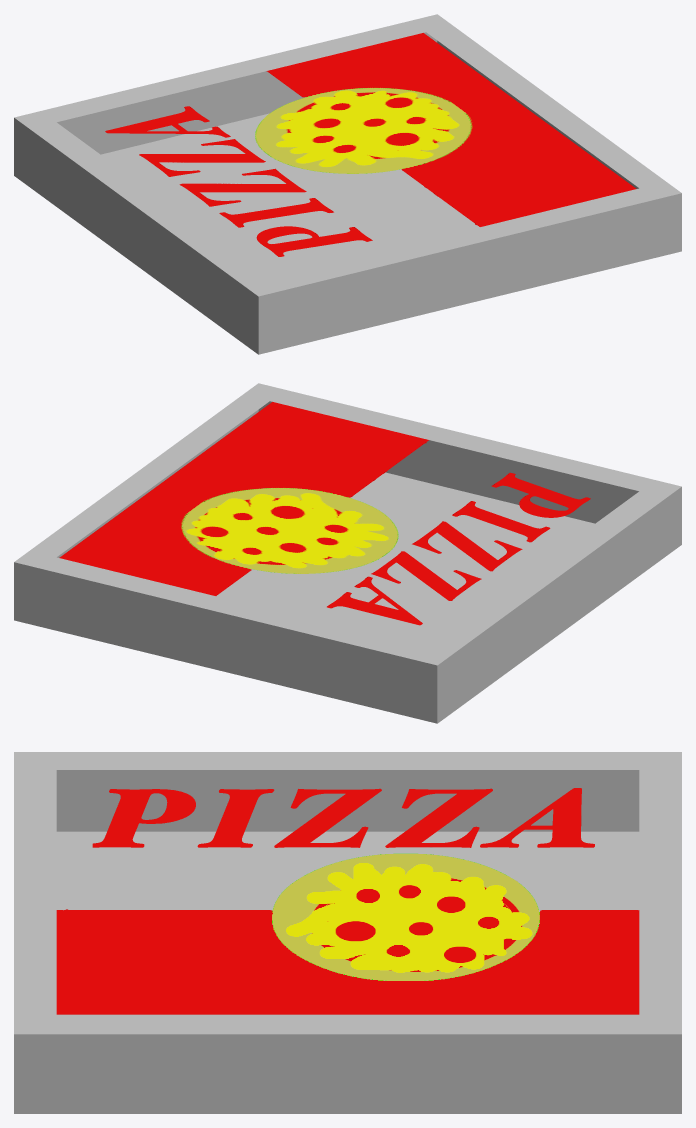
Rendered from pizzaBox.fbx.
The picture shows the model from 3 angles, top to bottom: view 1: azimuth 30°, elevation 25°; view 2: azimuth 150°, elevation 25°; view 3: azimuth 270°, elevation 25°; orthographic projection. The views are drawn at different scales.
Parts seen in each view (by area): view 1: Cube; view 2: Cube; view 3: Cube.
Part boxes in pixels (bbox=[...]): Cube: bbox=[14, 14, 681, 354]; Cube: bbox=[14, 383, 681, 723]; Cube: bbox=[14, 752, 681, 1113].
Size of the model in its own units: 200 by 26.29 by 200.
